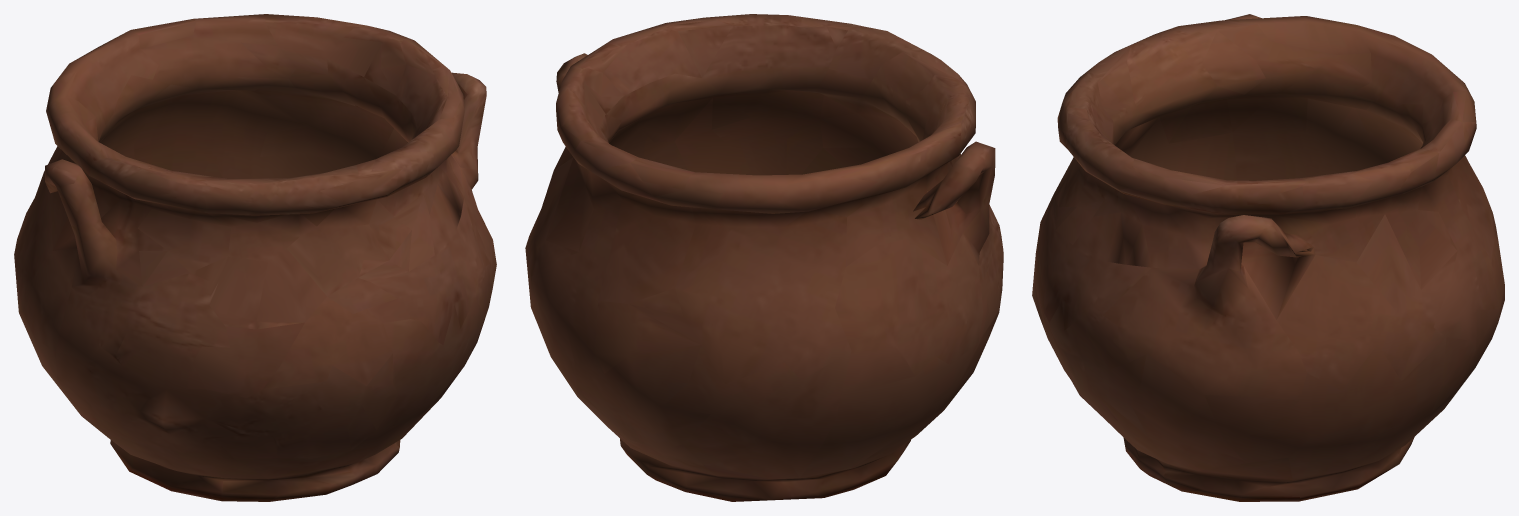
Rendered from pot.glb.
The picture shows the model from 3 angles, left to right: view 1: azimuth 30°, elevation 25°; view 2: azimuth 150°, elevation 25°; view 3: azimuth 270°, elevation 25°; orthographic projection.
Parts seen in each view (by area): view 1: pot; view 2: pot; view 3: pot.
Part boxes in pixels (x1,y1,x2,y2): pot: (14, 14, 496, 501); pot: (525, 14, 1003, 501); pot: (1032, 14, 1504, 501).
Bounding box in the file's own units: 0.9846 × 0.7724 × 0.957.
Materials: 1 (1 with a texture image).
